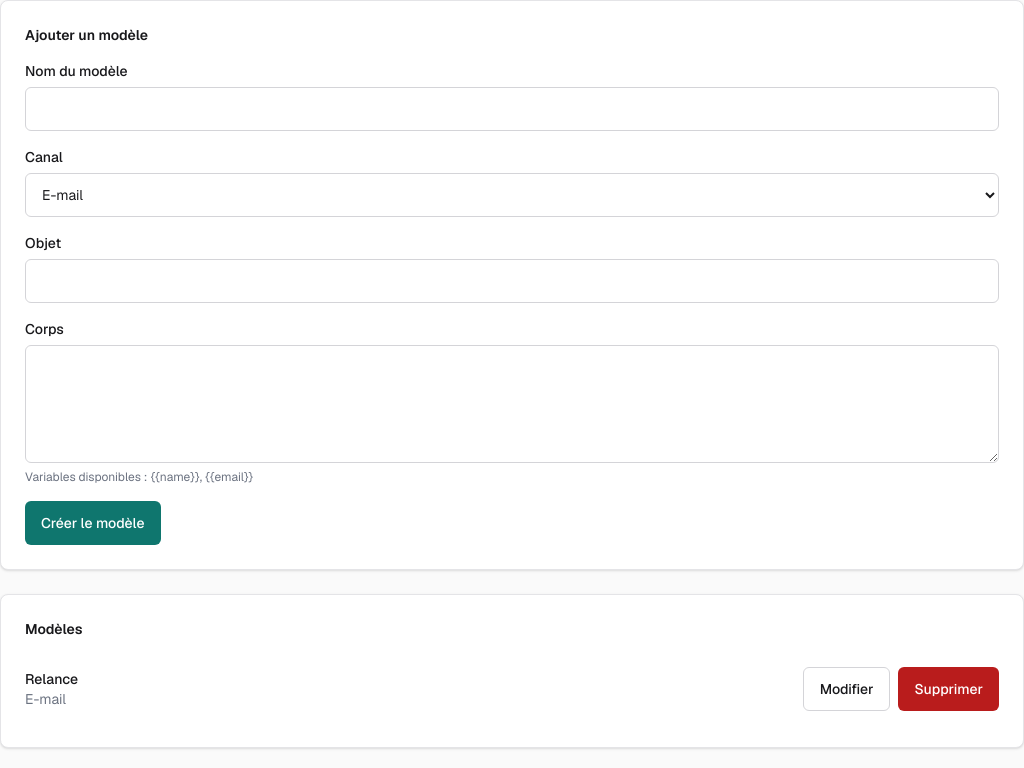
Test case: CampaignTemplatesPage › supprime un modele
Expected: the text "Relance" is shown, [25,669,78,689]
Click the button "Supprimer": (949, 689) [898,667,999,711]
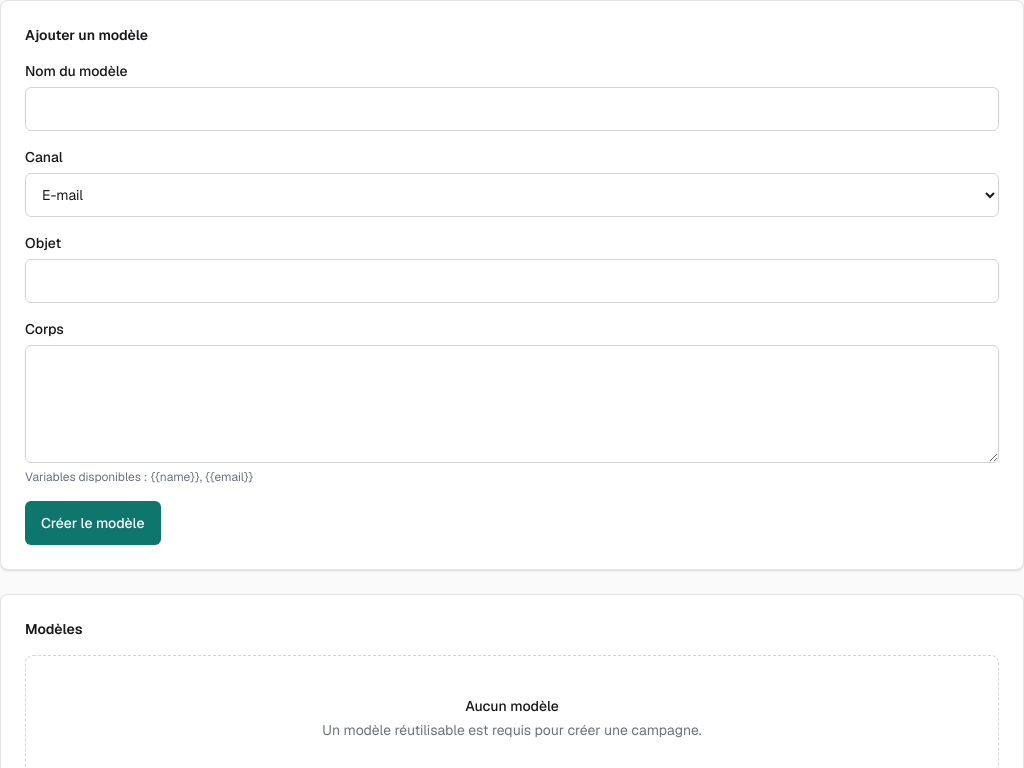
Expected: the text "Relance" is gone
